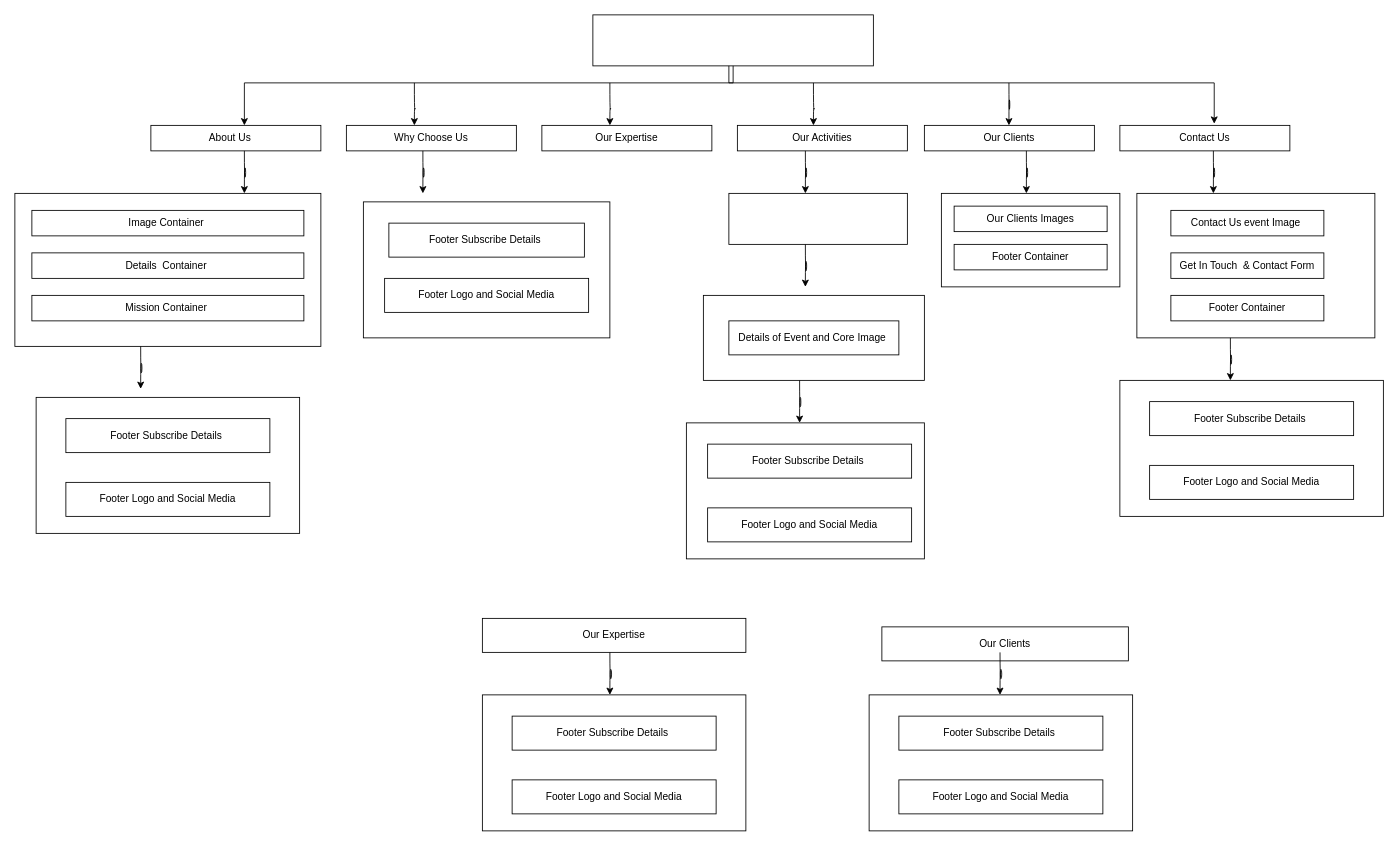
This 1398x846 diagram has some shape labels left out. The shapes that lost their labels are listed below. From the top down, each one's centre as x and y in pixels, then its label:
At point (732, 40): "Home".
At point (817, 218): "Hover Mega Menu".
